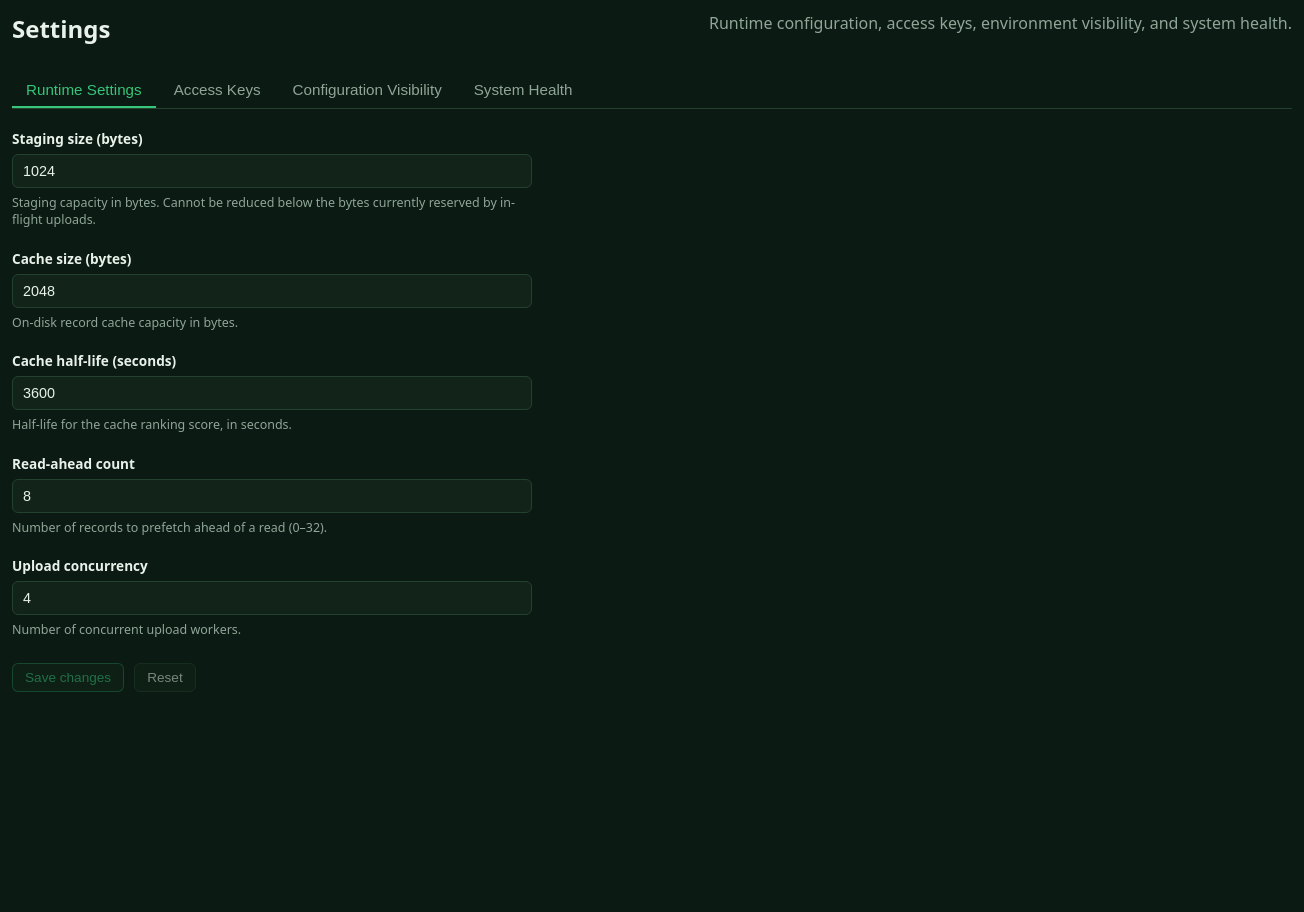
Test: SettingsScreen accessibility › announces a field validation error via role=alert in place (Req 10.6)
# 33 is out of the backend-mirrored 0–32 range, so an inline error appears.
Replace the text in the number field labelled "Read-ahead count" with "33" at (272, 496), box [12,479,532,513]
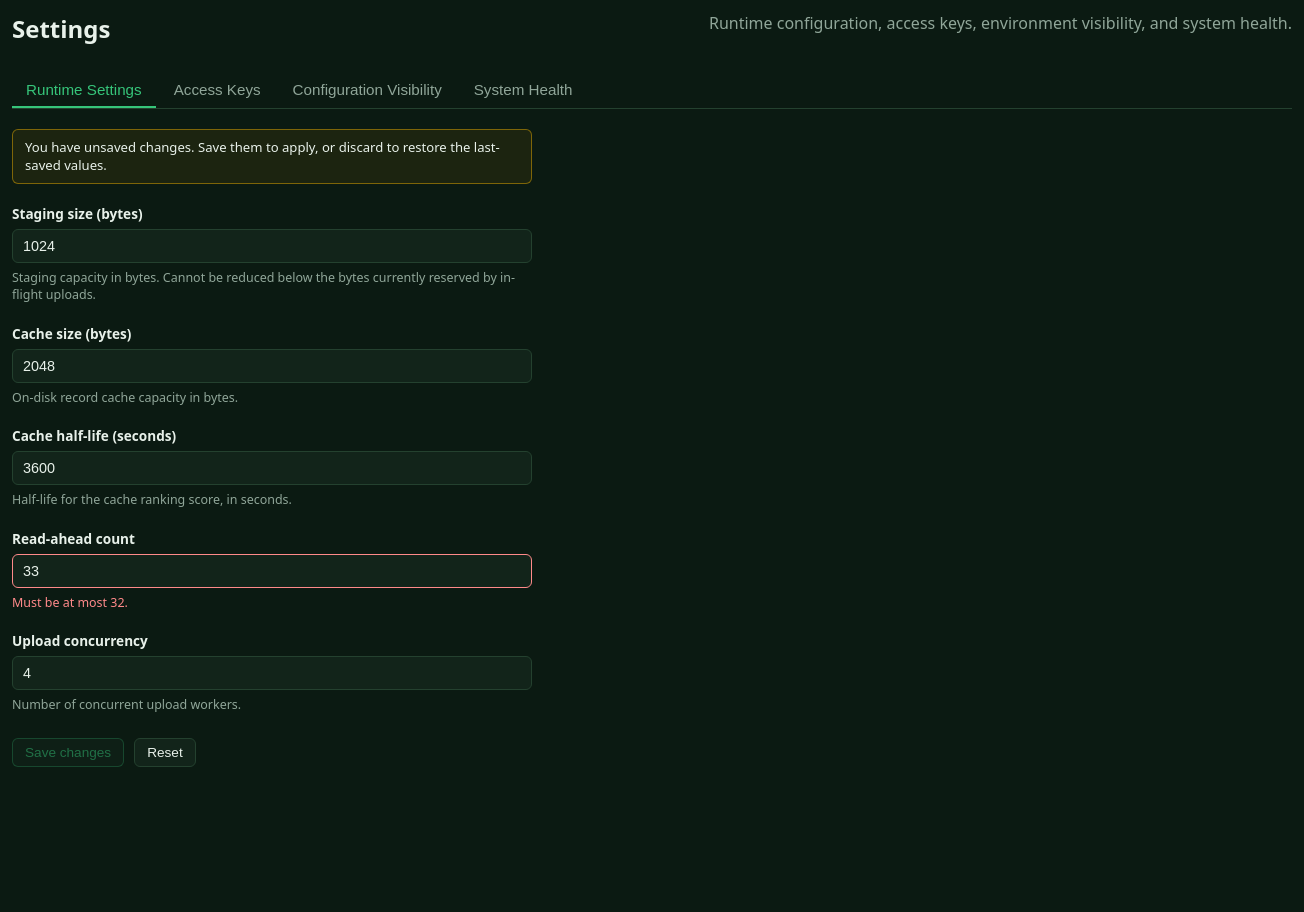
Expected: the message "Must be at most 32." is shown, [12,594,128,611]
